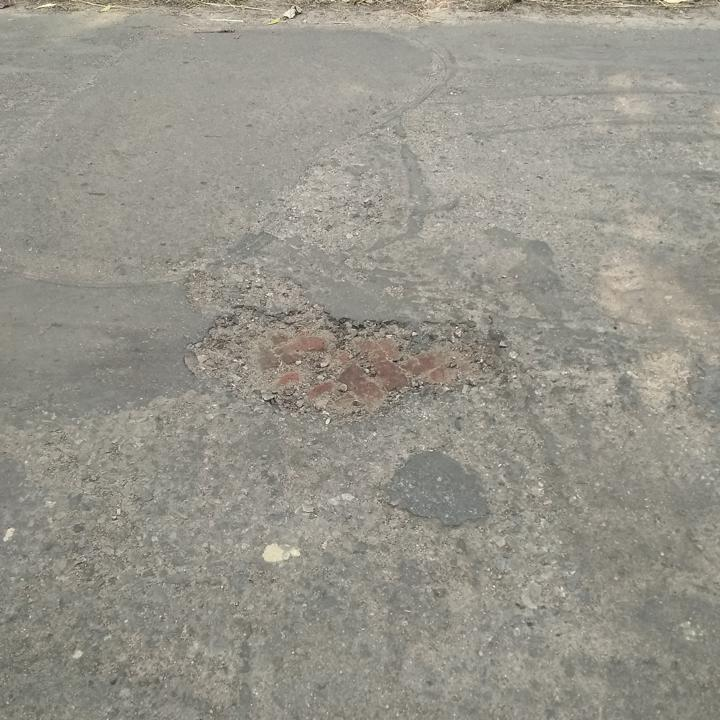pothole: (180, 305, 509, 426)
